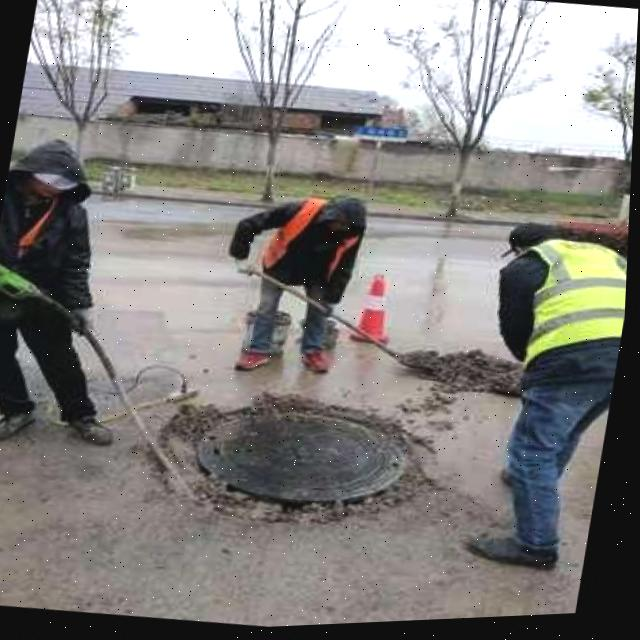manhole: (150, 367, 439, 532)
